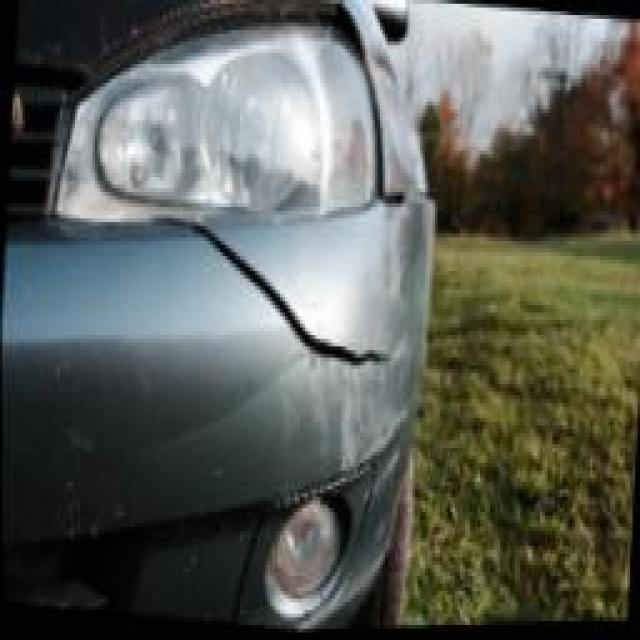Bumper: (0, 158, 492, 640)
Fender: (338, 0, 456, 217)
